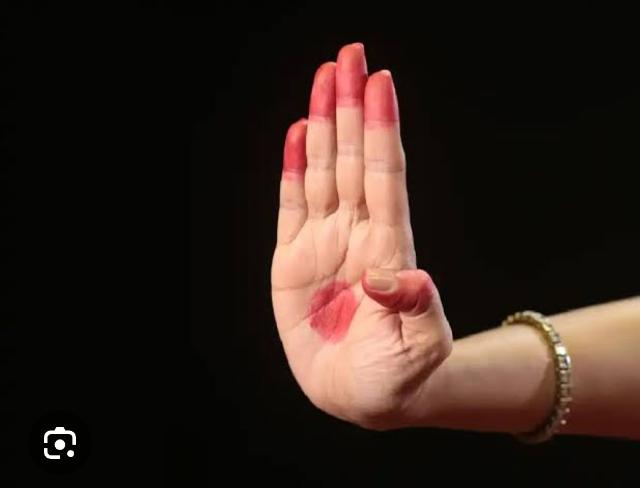pataka: (272, 43, 551, 435)
